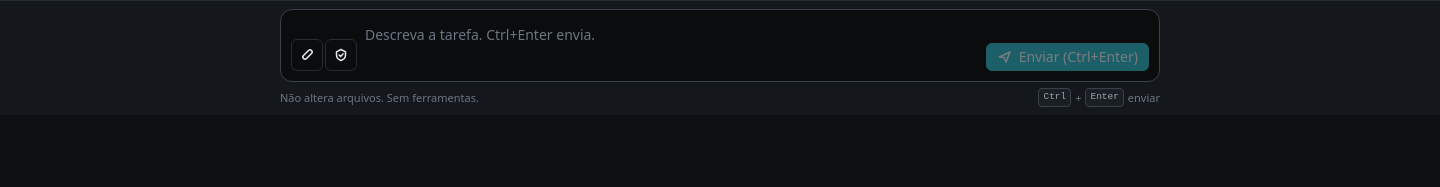
Test: Composer › remove anexo antes do envio
The width and height of the screenshot is (1440, 187).
Click the button named "Anexar arquivos" at (307, 55), box x1=291 y1=39 x2=323 y2=71
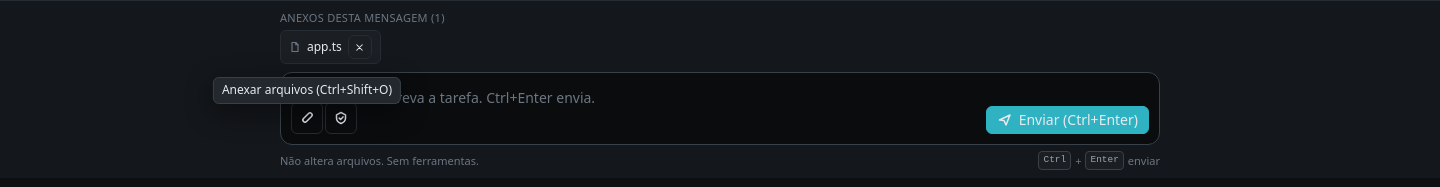
Check: the text "app.ts" is shown, box x1=307 y1=38 x2=342 y2=56
Click the button named "Remover anexo" at (360, 47), box x1=348 y1=35 x2=372 y2=59
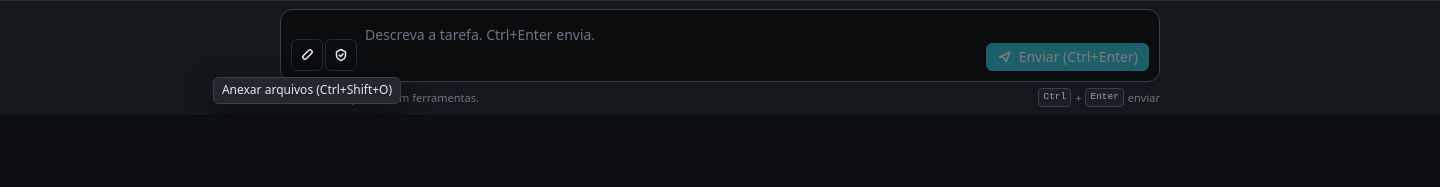
Check: the text "app.ts" is gone
